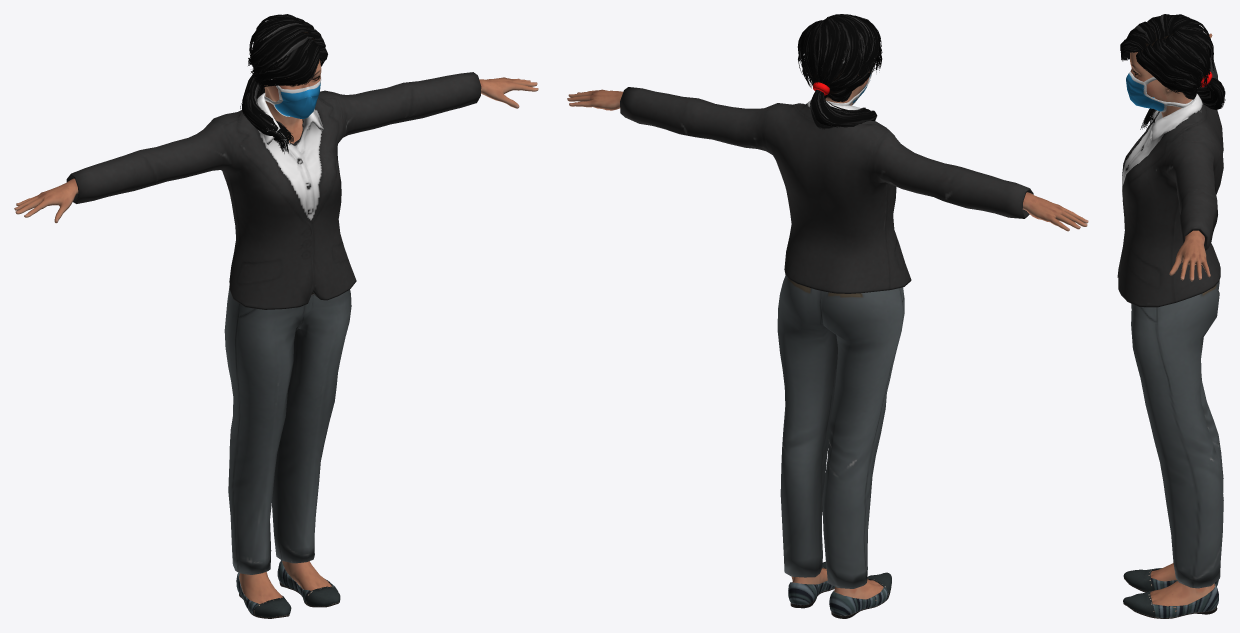
File: wmn.obj
3 views of the same model, side by side, from view 1: azimuth 30°, elevation 25°; view 2: azimuth 150°, elevation 25°; view 3: azimuth 270°, elevation 25° (orthographic).
Parts seen in each view (by area): view 1: Tops, Bottoms, Hair, Body, Shoes, Masks; view 2: Tops, Bottoms, Hair, Body, Shoes; view 3: Bottoms, Tops, Hair, Body, Shoes, Masks.
Part boxes in pixels (box(x1,y1,x2,y2)): Tops: box(66, 72, 481, 309); Bottoms: box(224, 286, 351, 574); Hair: box(240, 14, 327, 153); Body: box(14, 32, 538, 603); Shoes: box(236, 560, 340, 618); Masks: box(264, 74, 321, 118); Tops: box(620, 87, 1033, 293); Bottoms: box(777, 275, 904, 588); Hair: box(797, 14, 882, 129); Body: box(567, 49, 1088, 600); Shoes: box(788, 561, 891, 618); Bottoms: box(1131, 280, 1223, 588); Tops: box(1117, 55, 1223, 307); Hair: box(1120, 14, 1225, 129); Body: box(1130, 31, 1214, 611); Shoes: box(1123, 568, 1218, 618); Masks: box(1126, 70, 1192, 112).
Size of the model in its own units: 33.01 by 35.28 by 5.94.
Materials: 1 (1 with a texture image).
